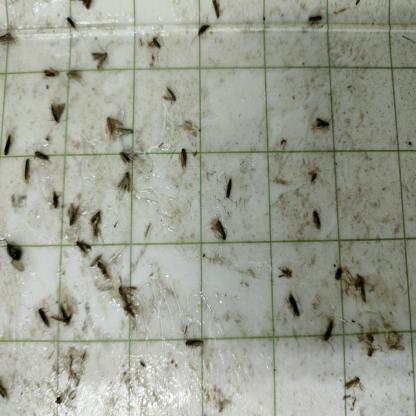prays_oleae: (118, 282, 144, 326), (221, 165, 245, 209), (306, 200, 331, 239), (142, 30, 168, 66), (52, 294, 79, 328), (343, 353, 363, 398), (44, 96, 72, 128), (104, 116, 136, 142), (190, 18, 214, 52), (353, 268, 372, 309), (206, 218, 232, 246), (286, 289, 304, 326), (317, 312, 336, 344), (66, 198, 86, 228), (310, 113, 335, 137), (162, 80, 180, 112), (118, 143, 142, 166), (73, 235, 93, 262), (97, 259, 114, 290), (180, 333, 209, 351), (46, 186, 64, 214), (173, 144, 189, 173), (90, 49, 113, 69), (61, 68, 86, 86), (87, 246, 107, 268), (91, 206, 107, 233), (116, 174, 134, 197), (207, 2, 227, 22), (2, 126, 14, 159), (61, 15, 81, 34), (0, 27, 16, 50), (307, 12, 323, 30), (282, 261, 294, 284), (37, 144, 47, 170), (22, 159, 34, 180), (45, 64, 58, 82)
